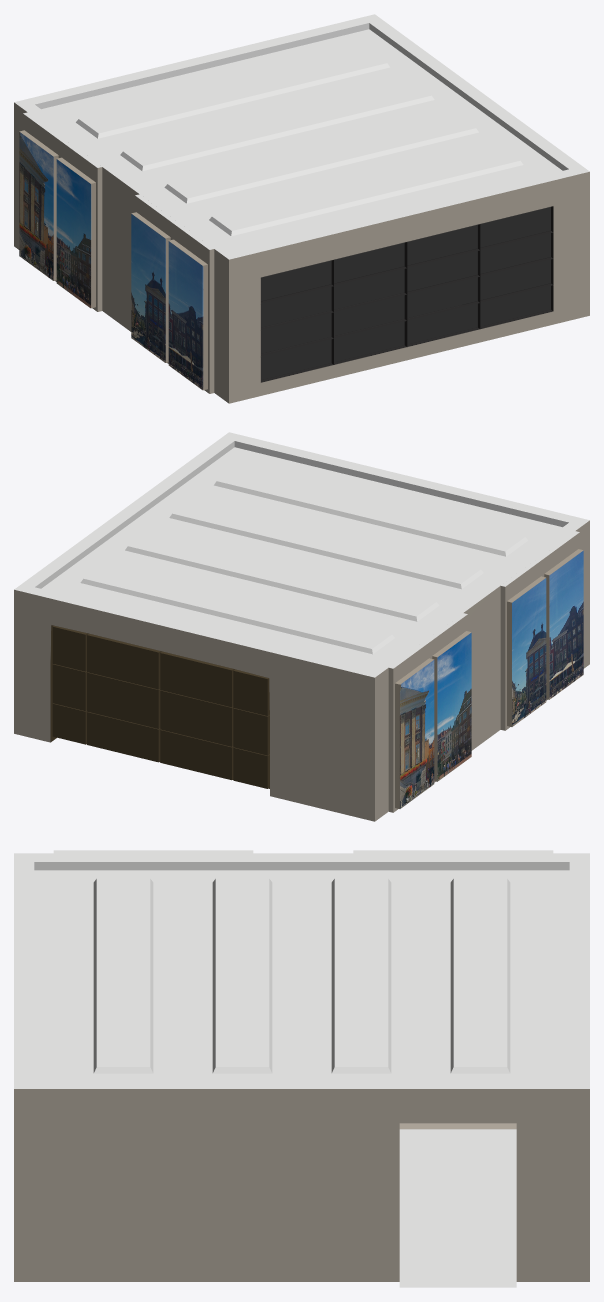
The model's file is OFFICE22.FBX.
The picture shows the model from 3 angles, top to bottom: view 1: azimuth 30°, elevation 25°; view 2: azimuth 150°, elevation 25°; view 3: azimuth 270°, elevation 25°; orthographic projection. The views are drawn at different scales.
Visible parts, largest first — view 1: Office_Roo; view 2: Office_Roo; view 3: Office_Roo.
Boxes of the visible parts, x1=… form: Office_Roo: x1=14, y1=14, x2=589, y2=403; Office_Roo: x1=14, y1=432, x2=589, y2=821; Office_Roo: x1=14, y1=850, x2=589, y2=1287.
Size of the model in its own units: 5361 by 1943 by 5259.
Materials: 1 (1 with a texture image).
